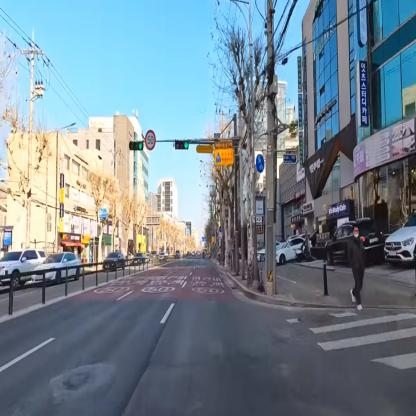Green: (129, 137, 143, 150), (176, 140, 188, 150)
